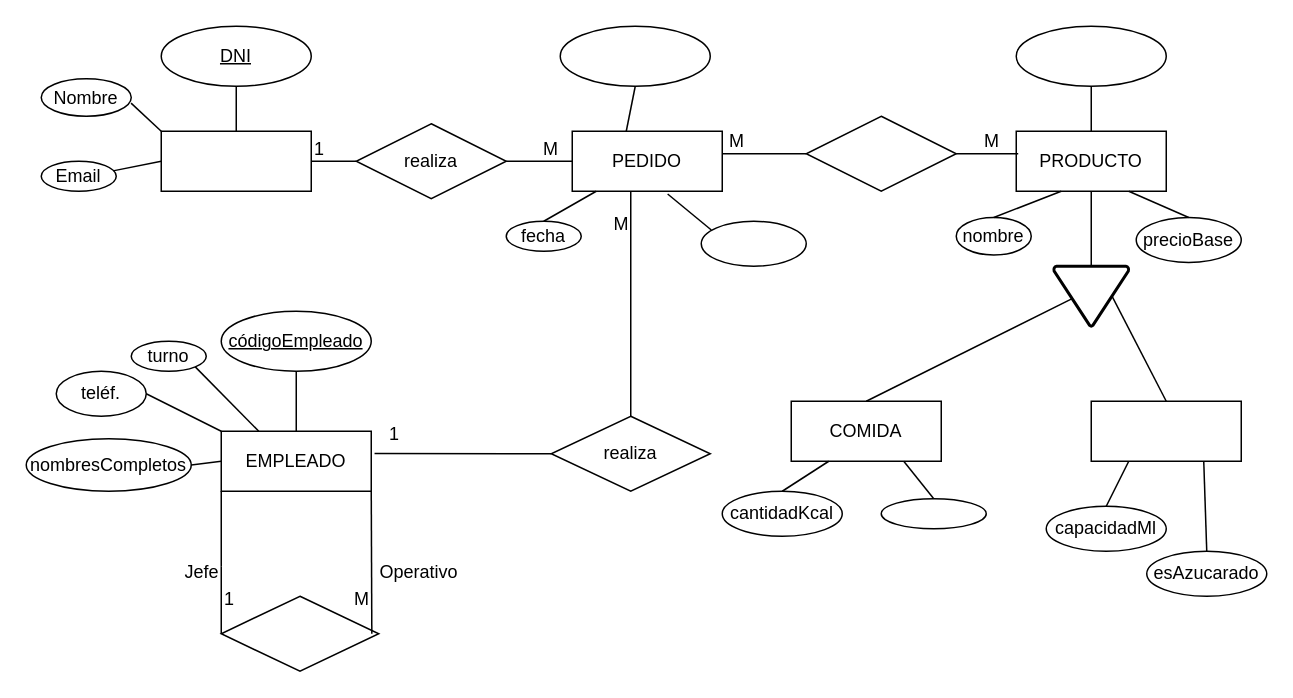
The diagram is 1293 pixels wide and 698 high, and some of its shapes have lost their labels. The shapes that lost their labels are listed below. From the top down, each one's centre as x and y in pixels, then its label:
pixel 634 55: nroTicket
pixel 1090 55: códigoProducto
pixel 235 160: CLIENTE
pixel 880 153: incluye
pixel 753 243: montoTotal
pixel 1091 295: ES
pixel 1165 430: BEBIDA
pixel 933 513: esVegano
pixel 299 633: supervisa
